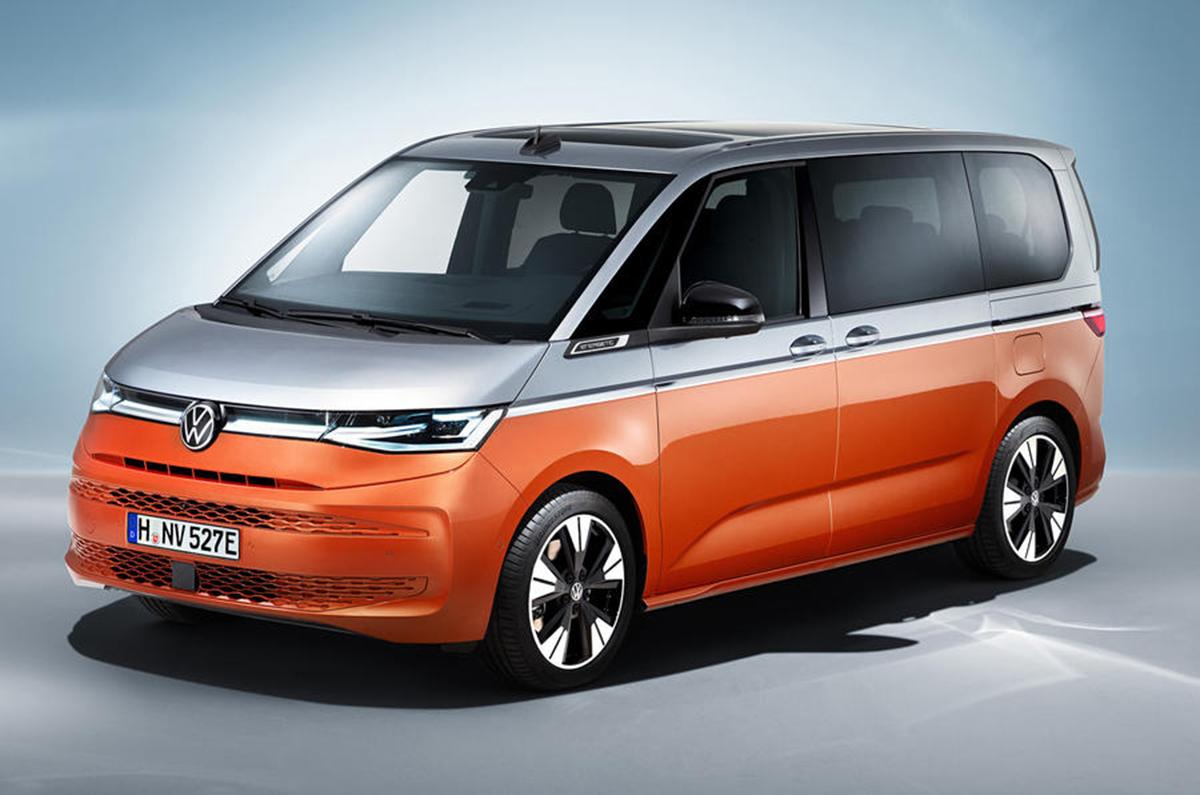van: (62, 117, 1105, 691)
